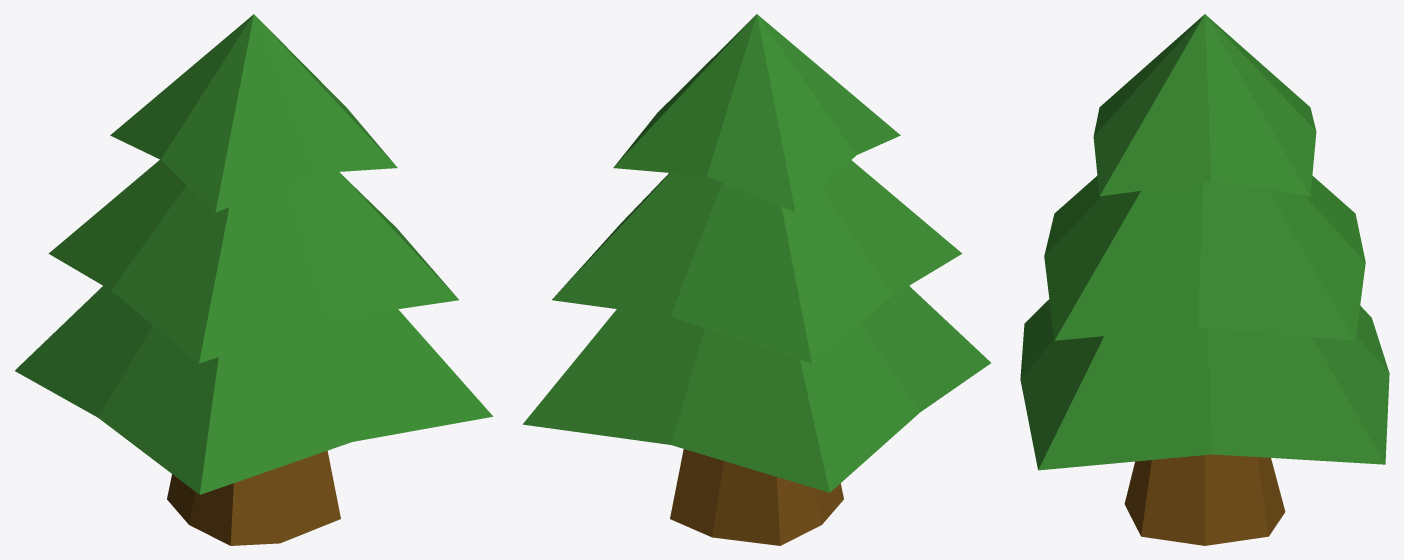
File: Tree.fbx
3 renders of one model, left to right at view 1: azimuth 30°, elevation 25°; view 2: azimuth 150°, elevation 25°; view 3: azimuth 270°, elevation 25°, orthographic.
Visible parts, largest first — view 1: Tree; view 2: Tree; view 3: Tree.
Part boxes in pixels (bbox=[...]): Tree: bbox=[15, 14, 492, 545]; Tree: bbox=[522, 14, 990, 545]; Tree: bbox=[1020, 14, 1389, 545].
Size of the model in its own units: 375 by 557 by 375.
